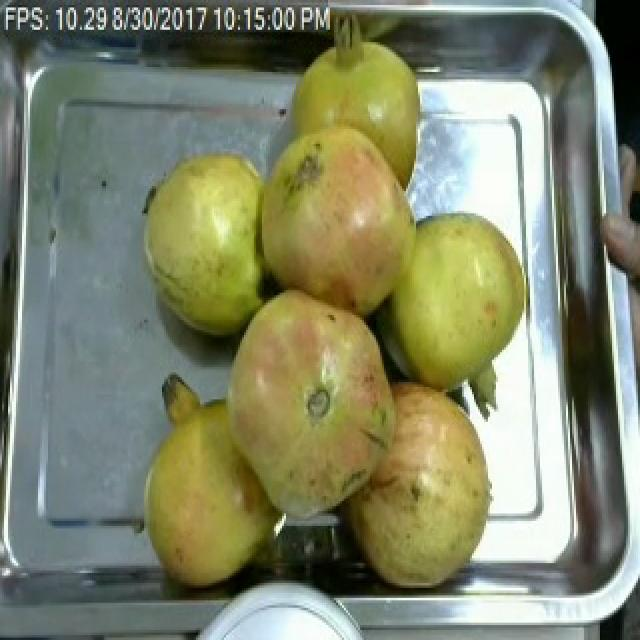fruit: (248, 104, 434, 328), (118, 370, 288, 600), (366, 189, 538, 414), (342, 367, 500, 598), (128, 139, 274, 347), (218, 275, 396, 434), (278, 20, 434, 188)
